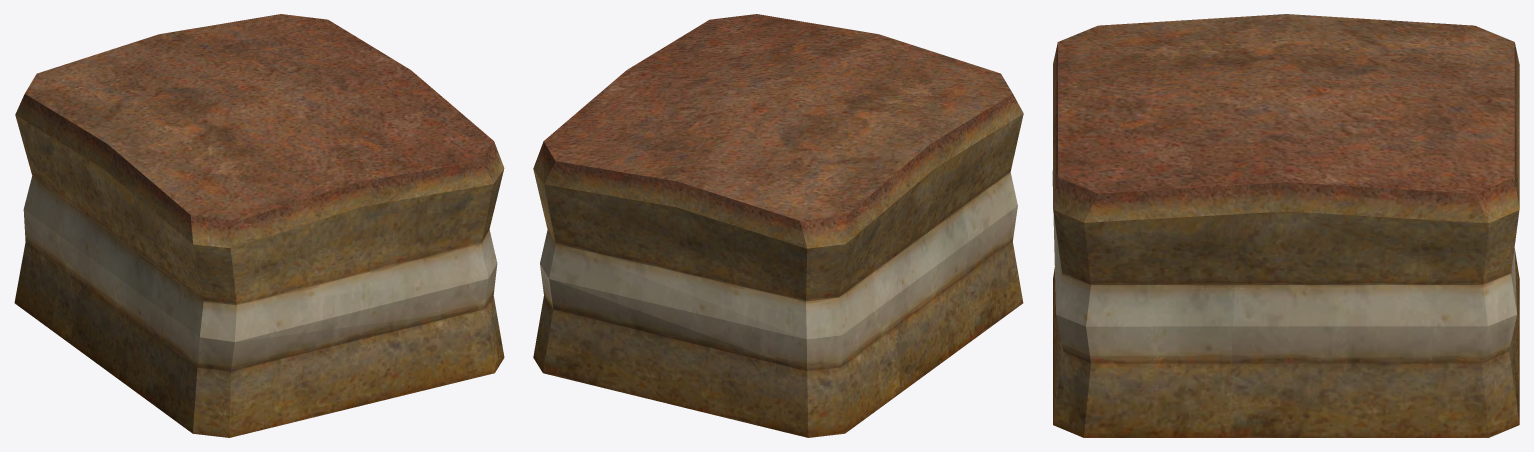
File: KM_ITFO_PIE01.glb
3 views of the same model, side by side, from view 1: azimuth 30°, elevation 25°; view 2: azimuth 150°, elevation 25°; view 3: azimuth 270°, elevation 25° (orthographic). The views are drawn at different scales.
Visible parts, largest first — view 1: KM_ITFO_PIE01; view 2: KM_ITFO_PIE01; view 3: KM_ITFO_PIE01.
Boxes of the visible parts, left/top/right/bottom form: KM_ITFO_PIE01: left=14, top=14, right=504, bottom=437; KM_ITFO_PIE01: left=533, top=14, right=1023, bottom=437; KM_ITFO_PIE01: left=1052, top=14, right=1519, bottom=437.
Size of the model in its own units: 0.1648 by 0.1176 by 0.1883.
Materials: 1 (1 with a texture image).
